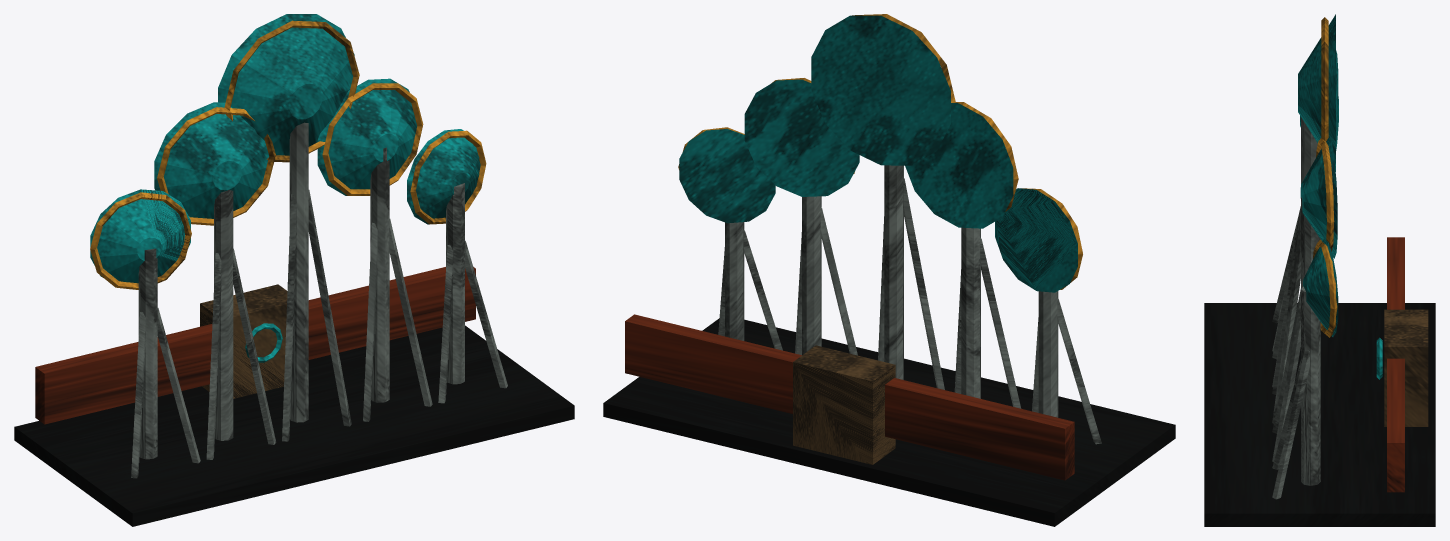
File: earthrise-listening-array.glb
The picture shows the model from 3 angles, left to right: view 1: azimuth 30°, elevation 25°; view 2: azimuth 150°, elevation 25°; view 3: azimuth 270°, elevation 25°; orthographic projection. The views are drawn at different scales.
Parts seen in each view (by area): view 1: earthrise-listening-array; view 2: earthrise-listening-array; view 3: earthrise-listening-array.
Boxes of the visible parts, x1,y1,x2,y2 form: earthrise-listening-array: (14, 14, 574, 526); earthrise-listening-array: (603, 14, 1175, 526); earthrise-listening-array: (1204, 14, 1435, 526).
Size of the model in its own units: 8.2 by 7.26 by 3.8.
Materials: 1 (1 with a texture image).
